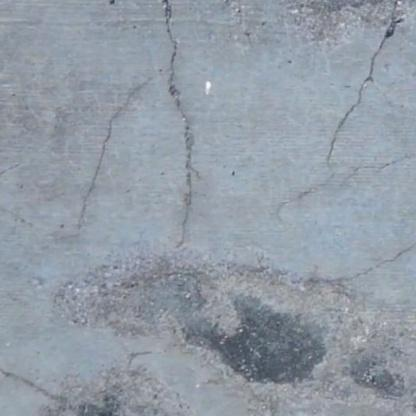Cracks: (68, 0, 205, 261), (284, 0, 413, 213), (284, 228, 416, 293), (0, 348, 77, 413), (0, 156, 29, 197), (132, 412, 165, 416)
